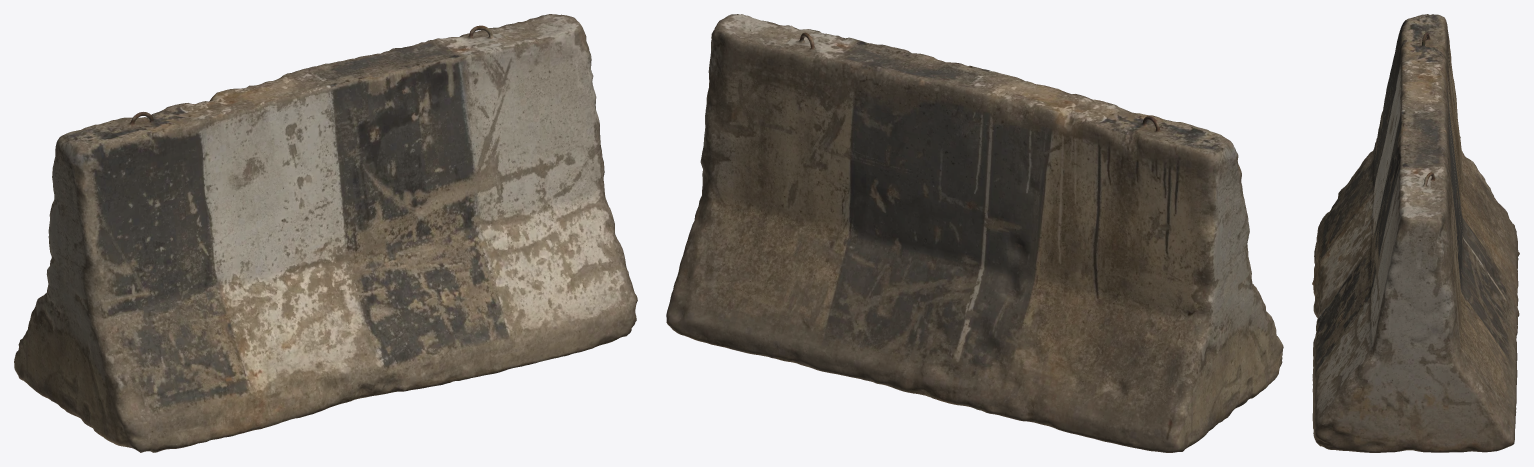
File: concrete_road_barrier.glb
The picture shows the model from 3 angles, left to right: view 1: azimuth 30°, elevation 25°; view 2: azimuth 150°, elevation 25°; view 3: azimuth 270°, elevation 25°; orthographic projection. The views are drawn at different scales.
Visible parts, largest first — view 1: concrete_road_barrier; view 2: concrete_road_barrier; view 3: concrete_road_barrier.
Boxes of the visible parts, <box> form: concrete_road_barrier: <box>14,14,637,452</box>; concrete_road_barrier: <box>666,14,1283,452</box>; concrete_road_barrier: <box>1312,14,1519,452</box>.
Size of the model in its own units: 1.55 by 0.831 by 0.6387.
1 material, 1 textured.
